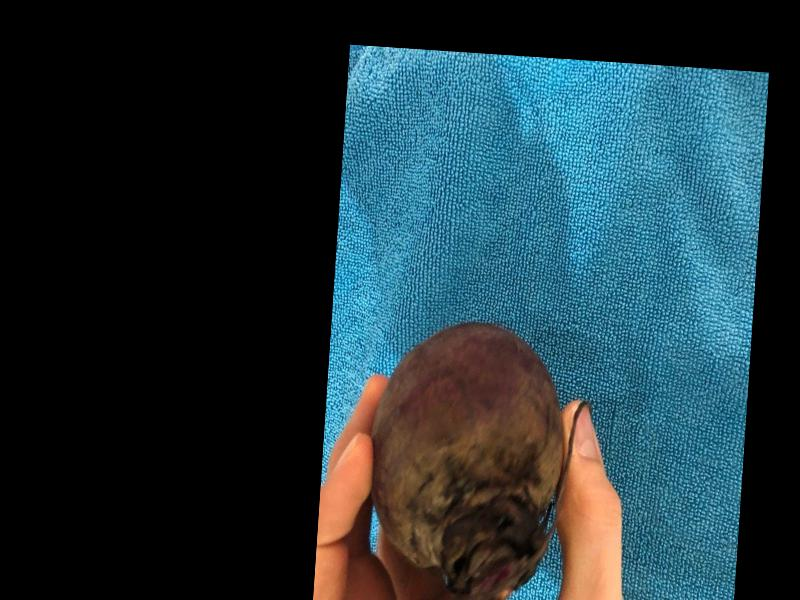Beet: (360, 316, 595, 600)
